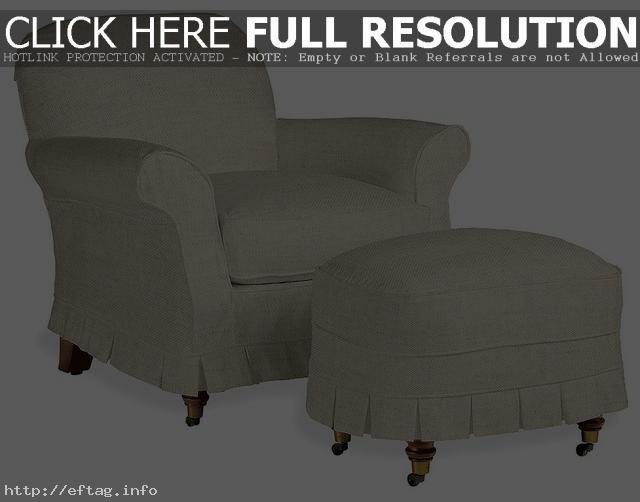chairs: (12, 22, 473, 429), (303, 228, 632, 490)
